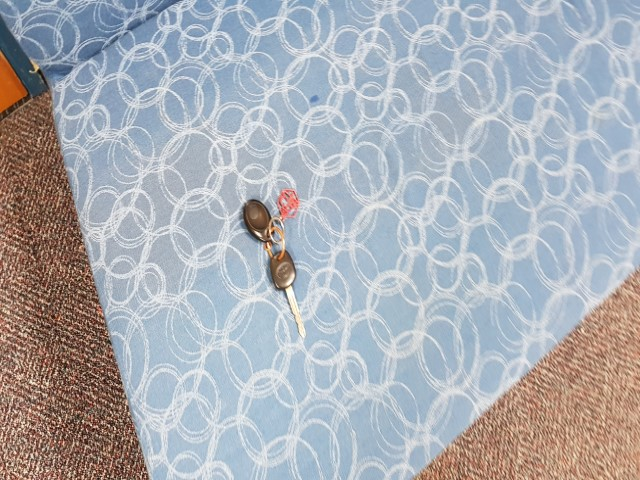key: (269, 249, 307, 339)
